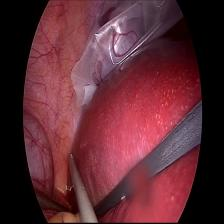Irrigator: (64, 150, 78, 168)
Specimen Bag: (66, 0, 184, 104)
